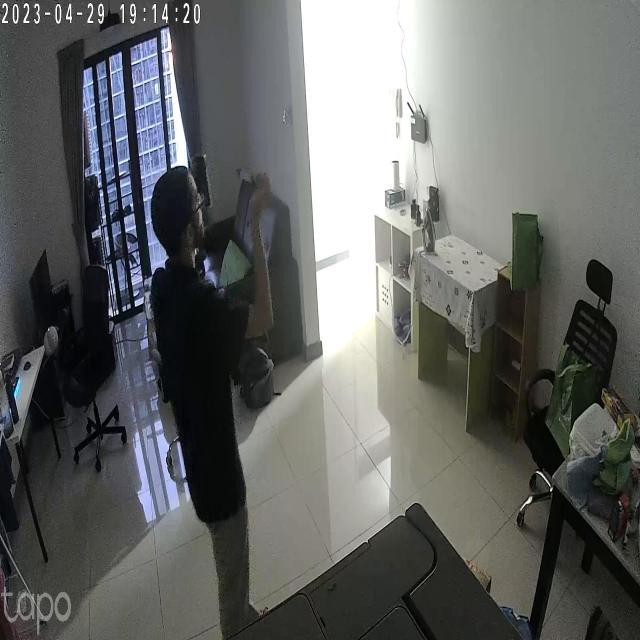Knife: (230, 157, 277, 205)
